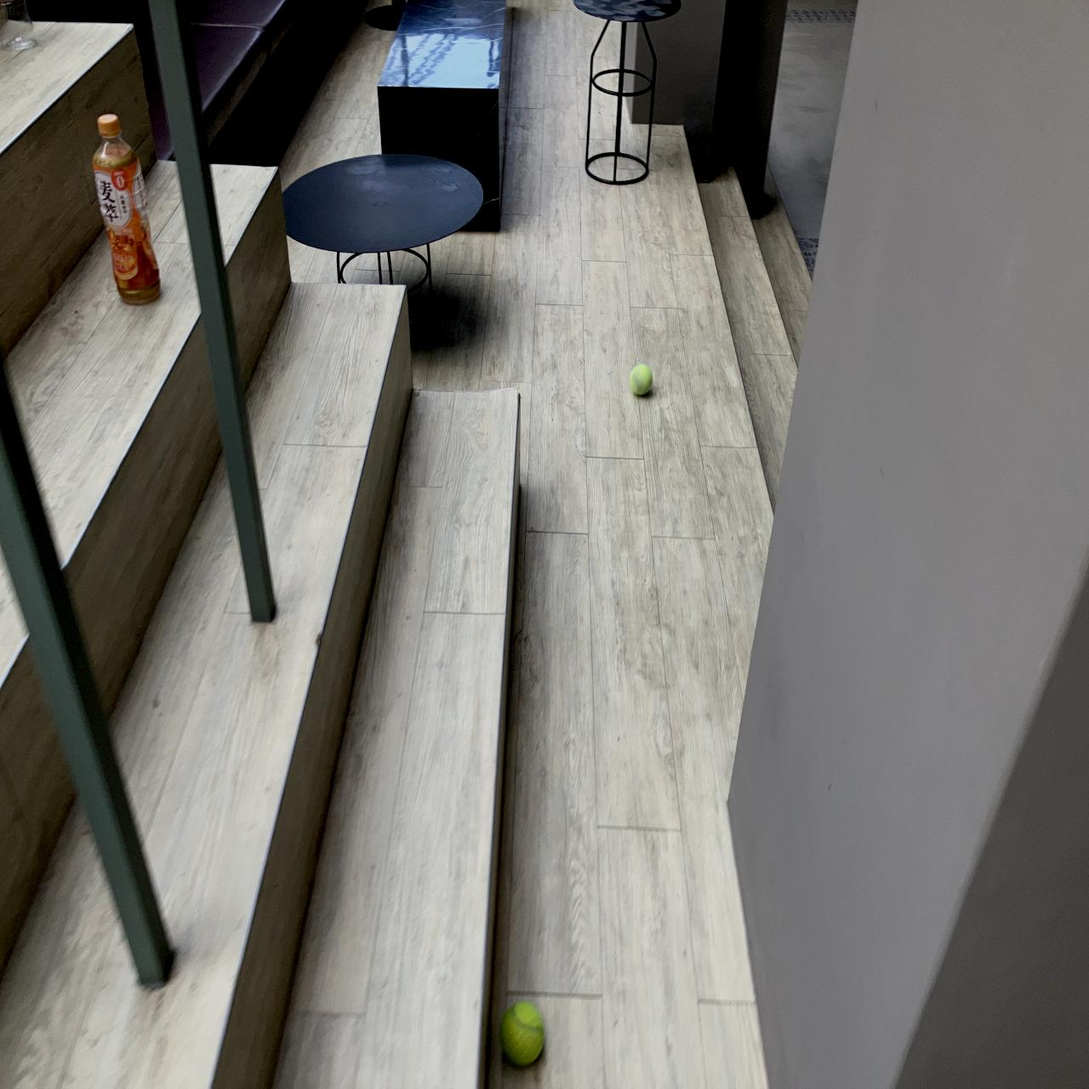plastic-bottle: (589, 123, 731, 213)
tennisball: (17, 668, 66, 726), (519, 839, 544, 871)
